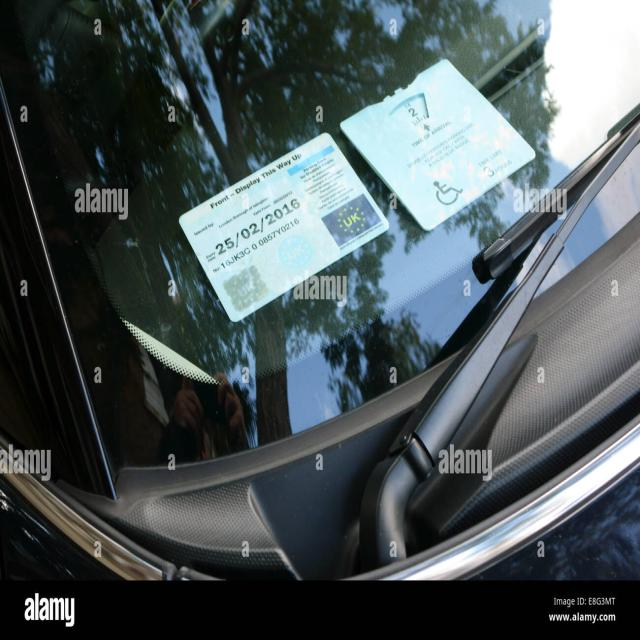symbol_of_access: (429, 170, 466, 211)
